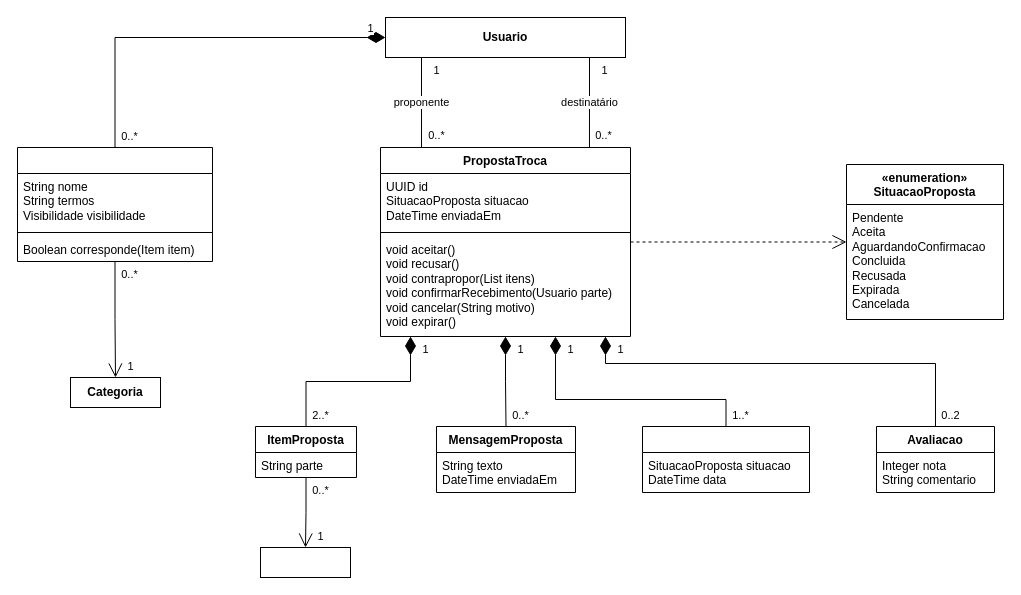
The diagram is 1021 pixels wide and 595 high, and some of its shapes have lost their labels. The shapes that lost their labels are listed below. From the top down, each one's box as (x1, y1, x2, y2) in pixels, then its label:
(16, 146, 212, 262): Desejo
(642, 426, 810, 492): RegistroSituacao
(260, 546, 350, 578): Item
